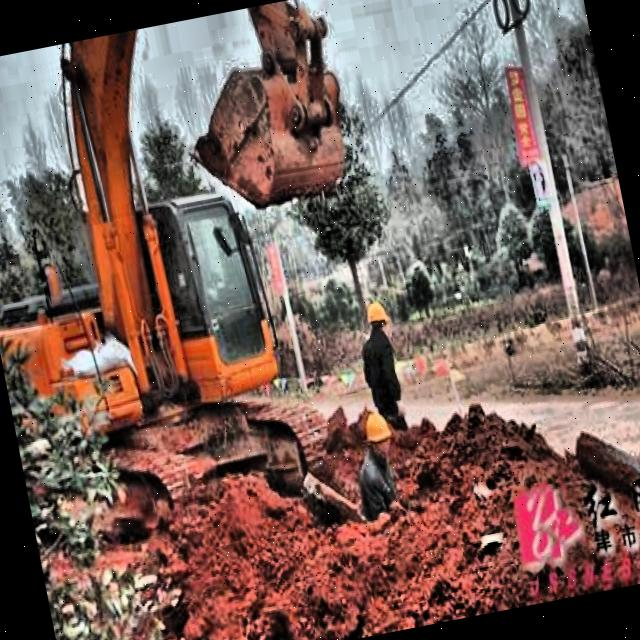helmet: (361, 406, 398, 464), (365, 299, 392, 342)
